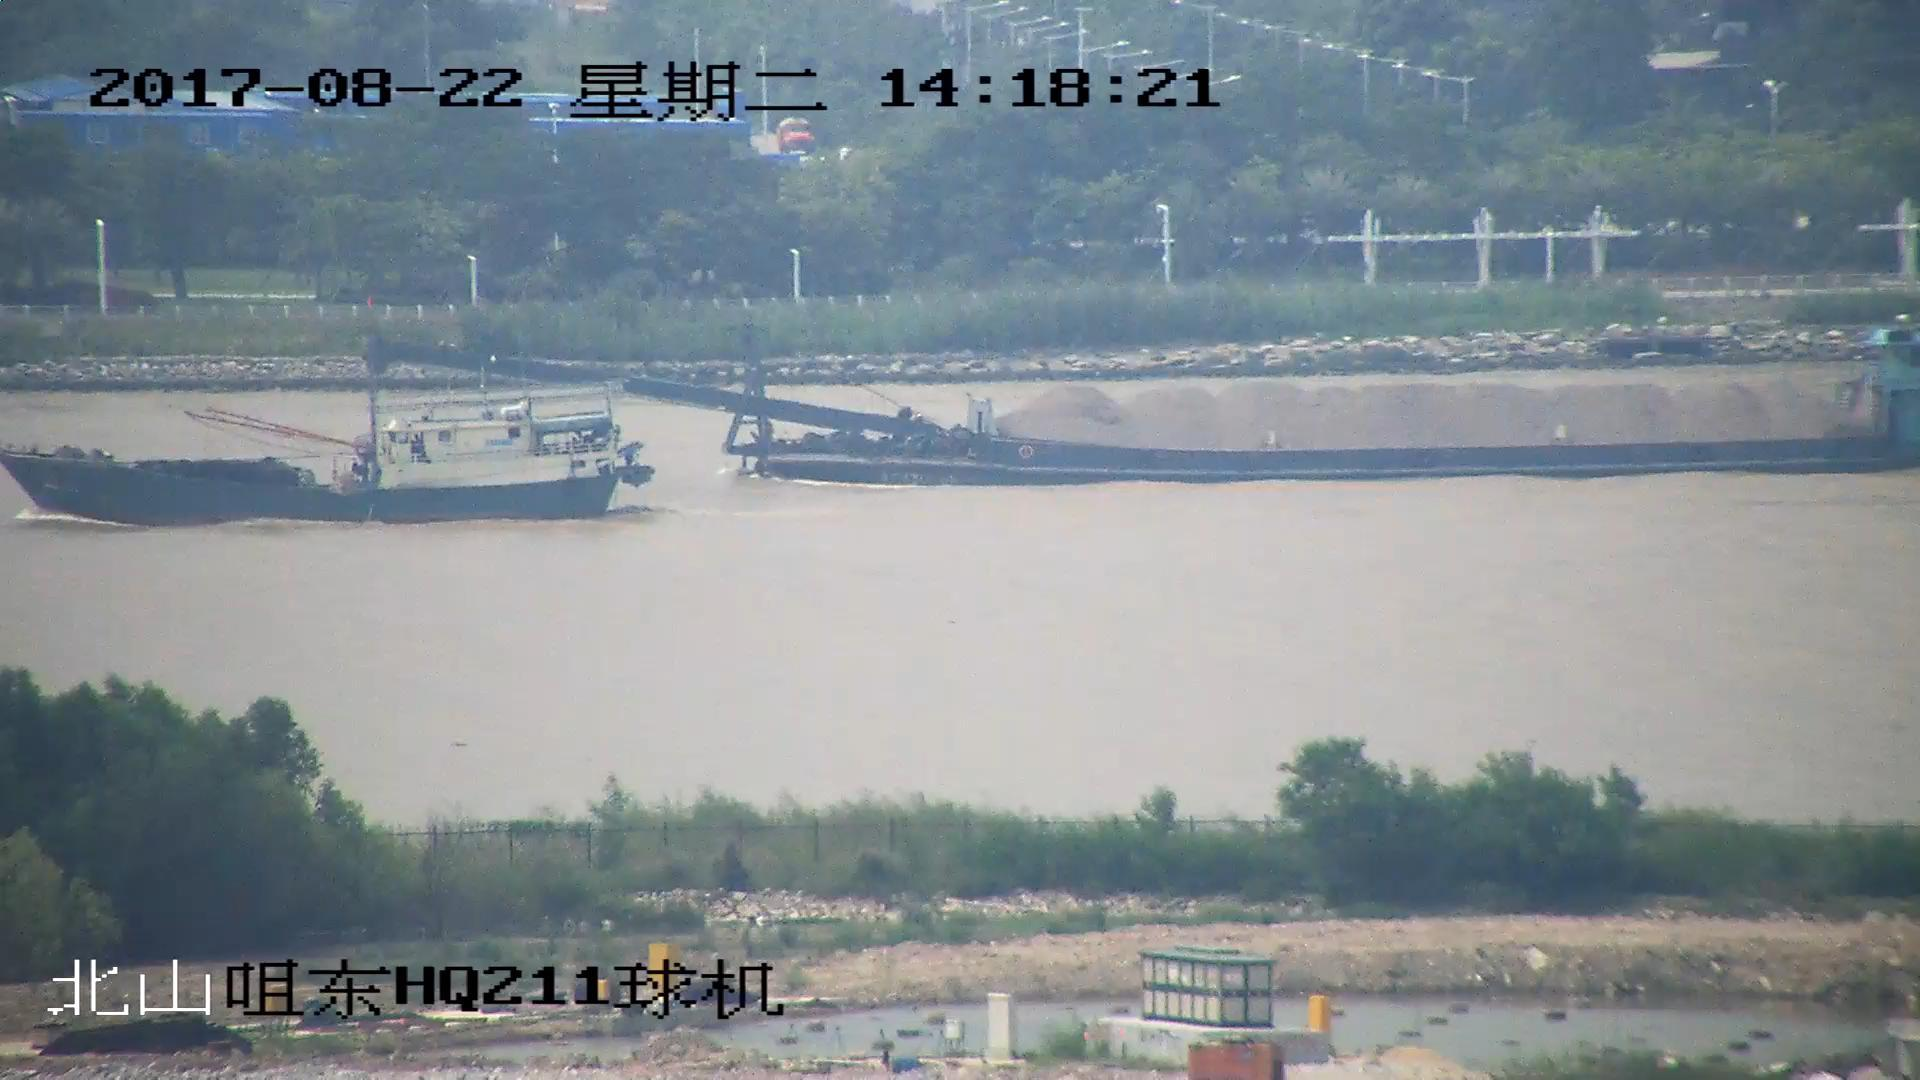Ship: (369, 335, 1920, 485), (3, 301, 658, 526)
